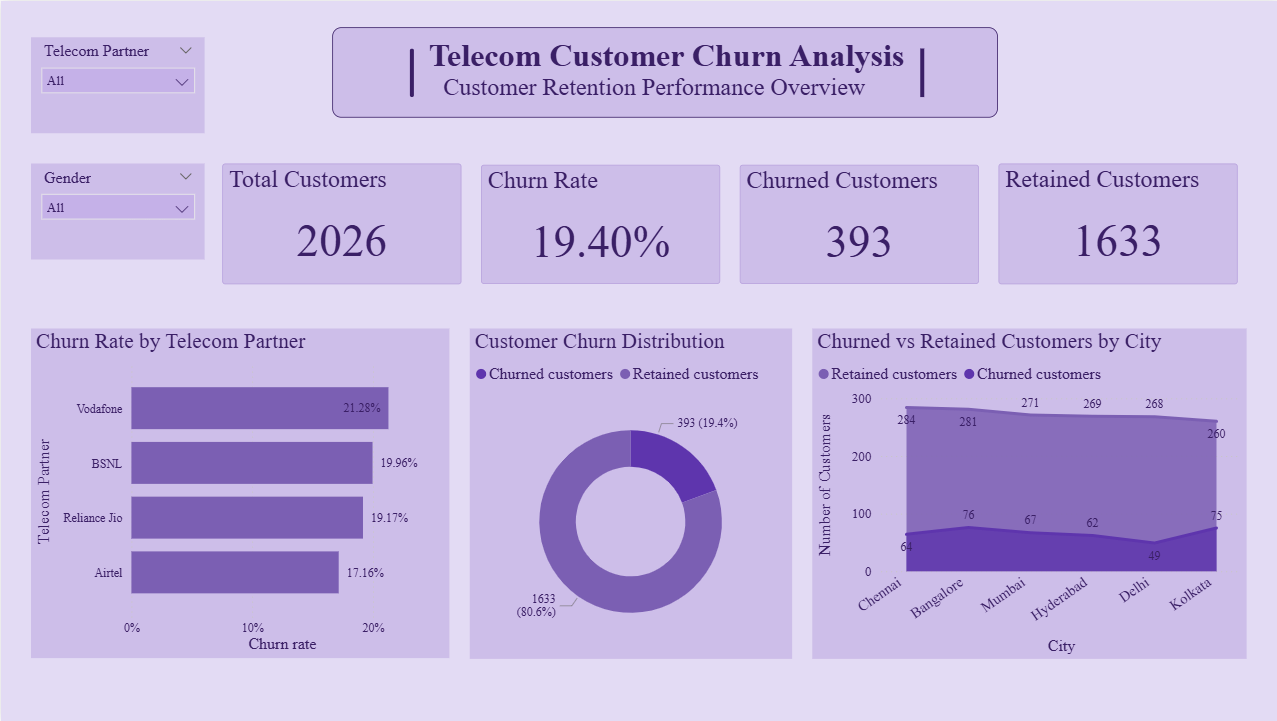

The page's visual inventory and layout, read from the dashboard file:
{"tool":"powerbi","page":{"name":"Customer Retention Performance Overview","canvas":[1280,720],"ordinal":0},"visuals":[{"type":"card","title":"Total Customers","fields":{"Values":["Telecomdata.Total Customers"]},"box":[220.8,162.9,238.9,120.6],"z":0},{"type":"card","title":"Churn Rate","fields":{"Values":["Telecomdata.Churn rate"]},"box":[480.2,164.1,238.9,119.4],"z":1000},{"type":"card","title":"Churned Customers","fields":{"Values":["Telecomdata.Churned customers"]},"box":[738.3,164.1,238.9,119.4],"z":2000},{"type":"card","title":"Retained Customers","fields":{"Values":["Telecomdata.Retained customers"]},"box":[997.7,162.9,238.9,120.6],"z":3000},{"type":"textbox","box":[331.4,25.7,665.7,90],"z":4000},{"type":"clusteredBarChart","title":"Churn Rate by Telecom Partner","fields":{"Y":["Telecomdata.Churn rate"],"Category":["Telecomdata.telecom_partner"]},"box":[30.2,326.9,418.6,329.4],"z":5000},{"type":"shape","box":[374.3,47.1,74.3,48.6],"z":6000},{"type":"shape","box":[875.7,47.1,90,48.6],"z":7000},{"type":"donutChart","title":"Customer Churn Distribution","fields":{"Y":["Telecomdata.Churned customers","Telecomdata.Retained customers"]},"box":[469.3,326.9,322.1,330.6],"z":8000},{"type":"slicer","fields":{"Values":["Telecomdata.telecom_partner"]},"box":[30,36.2,173.8,96.2],"z":9000},{"type":"slicer","fields":{"Values":["Telecomdata.gender"]},"box":[30,162.5,173.8,96.2],"z":10000},{"type":"areaChart","title":"Churned vs Retained Customers by City","fields":{"Category":["Telecomdata.city"],"Y":["Telecomdata.Retained customers","Telecomdata.Churned customers"]},"box":[810.7,326.9,434.3,330.6],"z":11000}]}

Visuals, with their boxes in screenshot pixels (x1, y1, x2, y2), scaled from the page's 1280x720 canvas onto the 1277x721 screenshot:
"Total Customers" card: crop(220, 163, 459, 284)
"Churn Rate" card: crop(479, 164, 717, 284)
"Churned Customers" card: crop(737, 164, 975, 284)
"Retained Customers" card: crop(995, 163, 1234, 284)
textbox: crop(331, 26, 995, 116)
"Churn Rate by Telecom Partner" clusteredBarChart: crop(30, 327, 448, 657)
shape: crop(373, 47, 448, 96)
shape: crop(874, 47, 963, 96)
"Customer Churn Distribution" donutChart: crop(468, 327, 790, 658)
slicer - Telecomdata.telecom_partner: crop(30, 36, 203, 133)
slicer - Telecomdata.gender: crop(30, 163, 203, 259)
"Churned vs Retained Customers by City" areaChart: crop(809, 327, 1242, 658)
